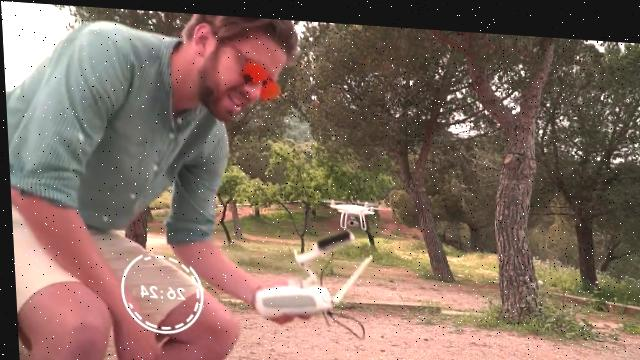drone: (312, 187, 389, 227)
